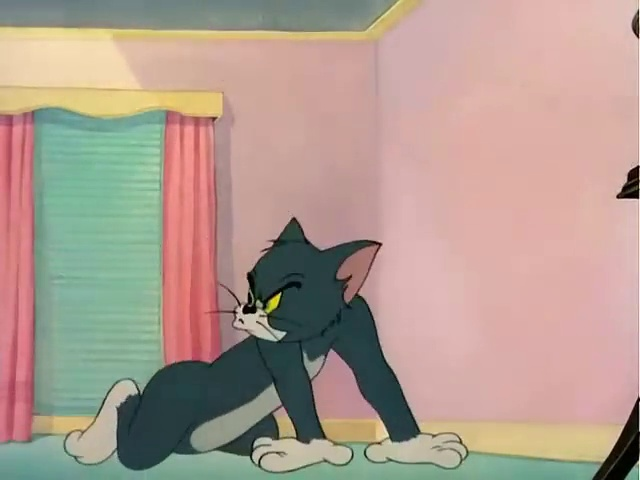tom: (43, 191, 491, 466), (41, 199, 490, 472)
